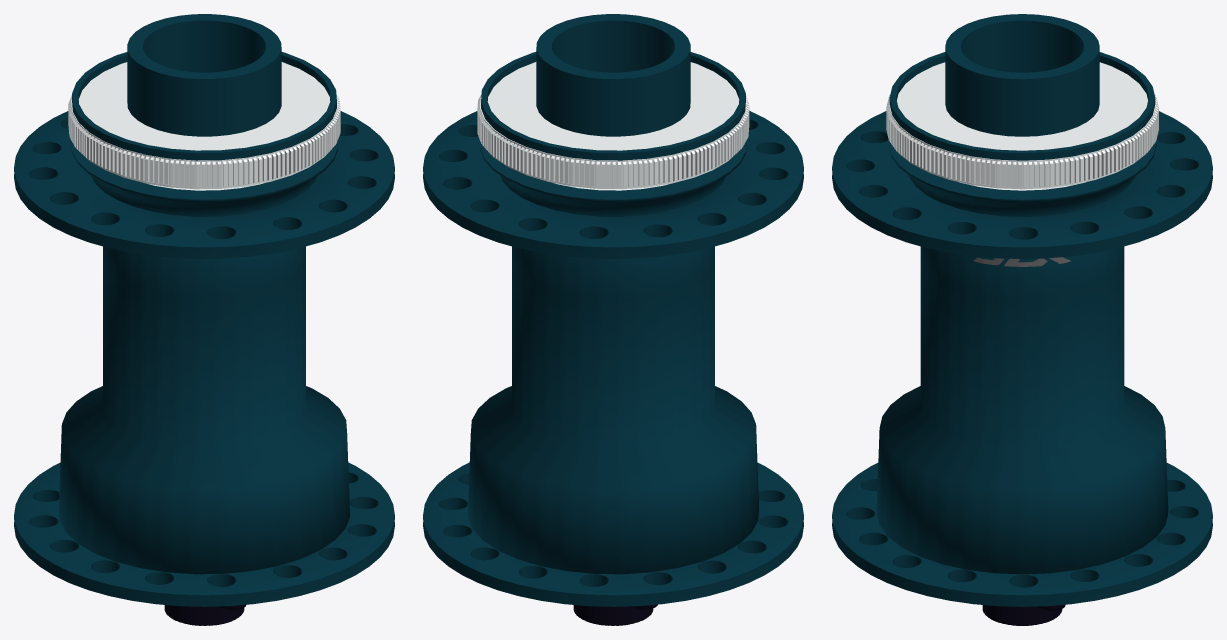
The model's file is shimanofronthub.glb.
3 renders of one model, left to right at view 1: azimuth 30°, elevation 25°; view 2: azimuth 150°, elevation 25°; view 3: azimuth 270°, elevation 25°, orthographic.
Parts seen in each view (by area): view 1: Cylinder, Torus.001, Torus.003, Cylinder.005, extra, Circle, Cylinder.002, Cylinder.004, Cylinder.008; view 2: Cylinder, Torus.001, Torus.003, Cylinder.005, extra, Circle, Cylinder.002, Cylinder.004, Cylinder.008; view 3: Cylinder, Torus.001, Torus.003, Cylinder.005, extra, Circle, Cylinder.002, Cylinder.004, Cylinder.008, shimano.
Boxes of the visible parts, <box> form: Cylinder: <box>59,246,349,574</box>; Torus.001: <box>14,111,394,258</box>; Torus.003: <box>14,462,394,606</box>; Cylinder.005: <box>127,14,281,136</box>; extra: <box>78,62,330,190</box>; Circle: <box>68,94,340,188</box>; Cylinder.002: <box>71,140,337,216</box>; Cylinder.004: <box>72,52,336,160</box>; Cylinder.008: <box>164,604,246,625</box>; Cylinder: <box>468,246,758,574</box>; Torus.001: <box>423,111,803,258</box>; Torus.003: <box>423,462,803,606</box>; Cylinder.005: <box>536,14,690,136</box>; extra: <box>487,62,739,190</box>; Circle: <box>477,94,749,188</box>; Cylinder.002: <box>480,140,746,216</box>; Cylinder.004: <box>481,52,745,160</box>; Cylinder.008: <box>573,604,657,625</box>; Cylinder: <box>876,246,1168,574</box>; Torus.001: <box>832,111,1212,258</box>; Torus.003: <box>832,463,1212,606</box>; Cylinder.005: <box>945,14,1099,136</box>; extra: <box>897,62,1147,190</box>; Circle: <box>886,94,1158,188</box>; Cylinder.002: <box>888,141,1156,216</box>; Cylinder.004: <box>889,52,1155,160</box>; Cylinder.008: <box>982,604,1065,625</box>; shimano: <box>973,257,1070,266</box>.
Bounding box in the file's own units: 1.93 × 3.16 × 1.93.
12 materials, 1 textured.
